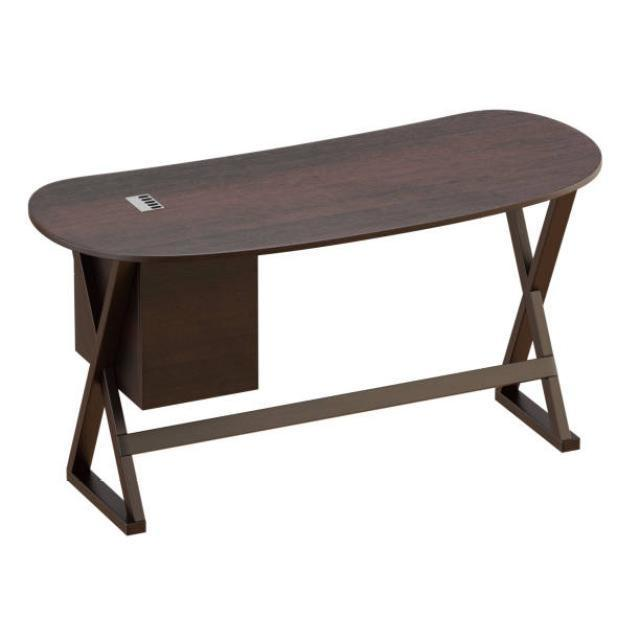table: (28, 106, 602, 534)
